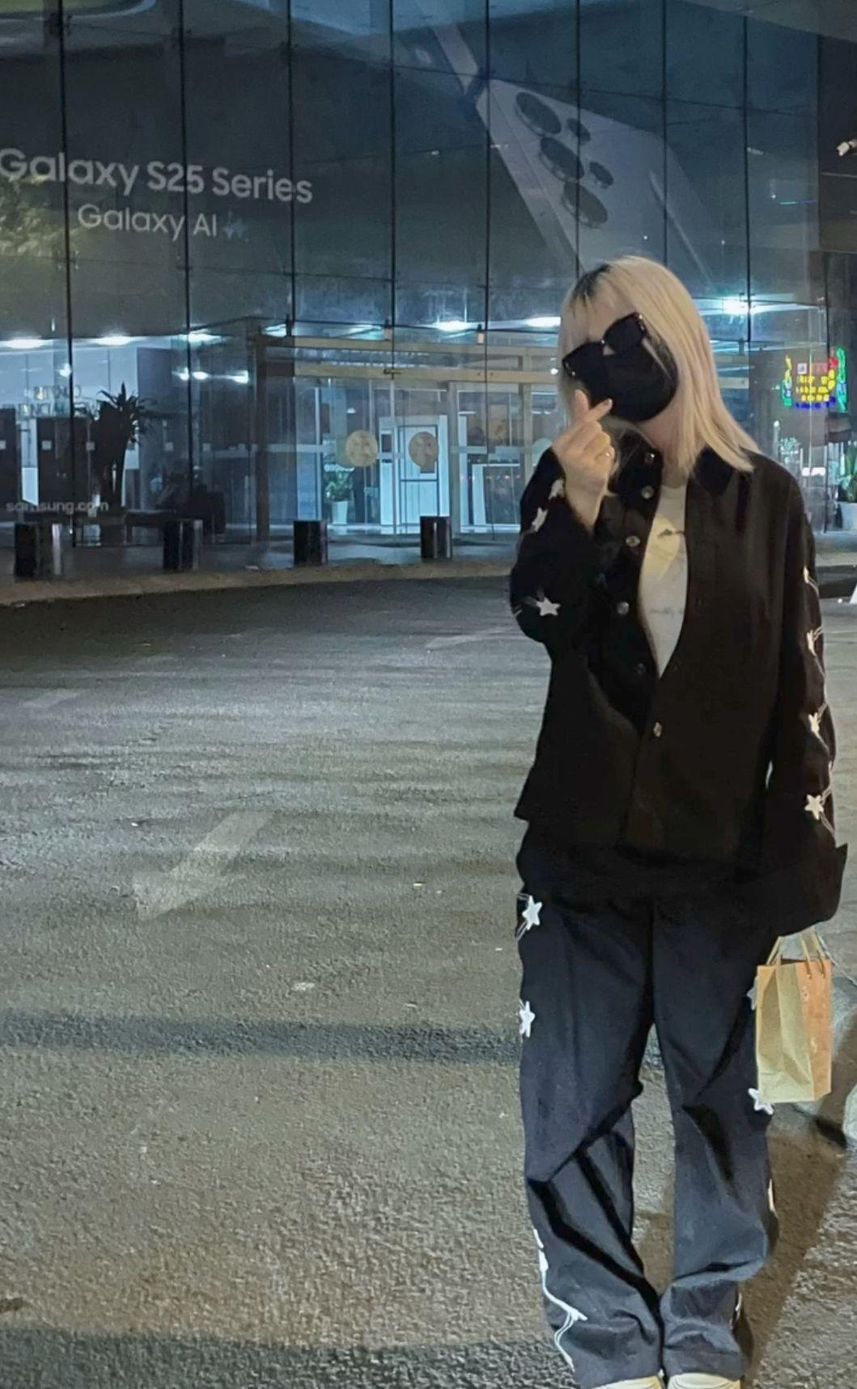non-dog: (507, 250, 842, 1389)
